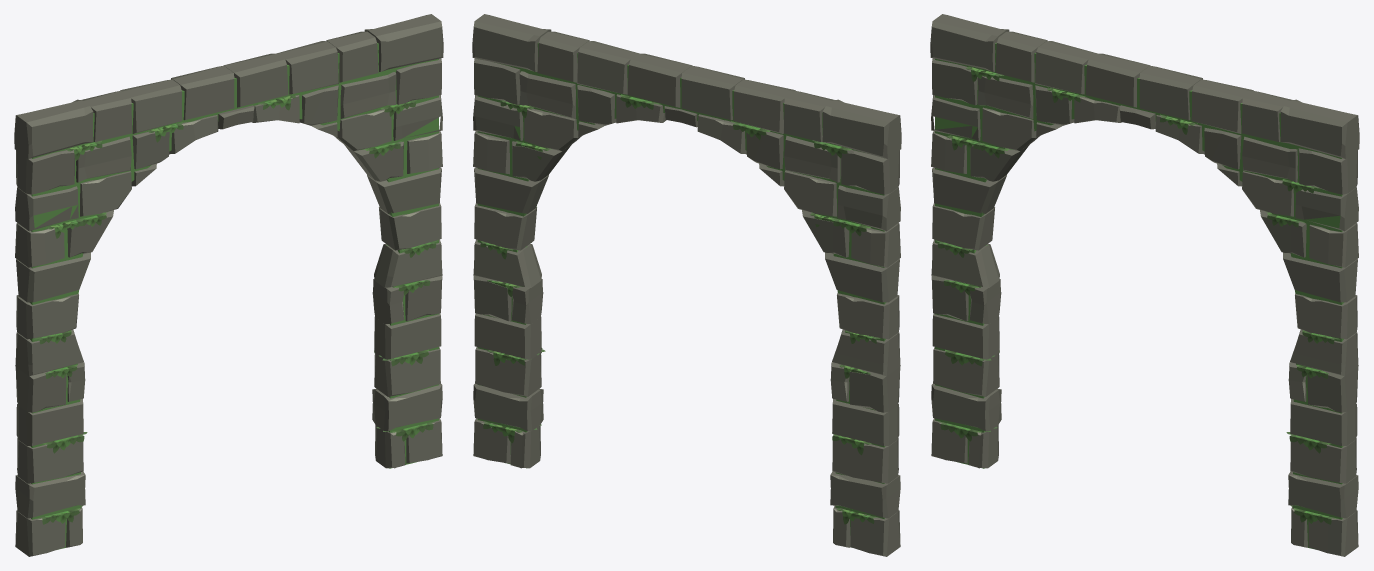
File: quaternius-ultimate-modular-ruins-wall-archround-overgrown.glb
3 renders of one model, left to right at view 1: azimuth 30°, elevation 25°; view 2: azimuth 150°, elevation 25°; view 3: azimuth 330°, elevation 25°, orthographic.
Parts seen in each view (by area): view 1: Wall_ArchRound_Overgrown; view 2: Wall_ArchRound_Overgrown; view 3: Wall_ArchRound_Overgrown.
Boxes of the visible parts, x1=… form: Wall_ArchRound_Overgrown: x1=14, y1=14, x2=443, y2=556; Wall_ArchRound_Overgrown: x1=472, y1=14, x2=901, y2=556; Wall_ArchRound_Overgrown: x1=930, y1=14, x2=1359, y2=556.
Bounding box in the file's own units: 4 × 3.99 × 0.3161.
4 materials, 1 textured.
